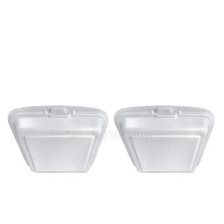foam_box: (110, 100, 217, 179), (3, 100, 110, 179)
